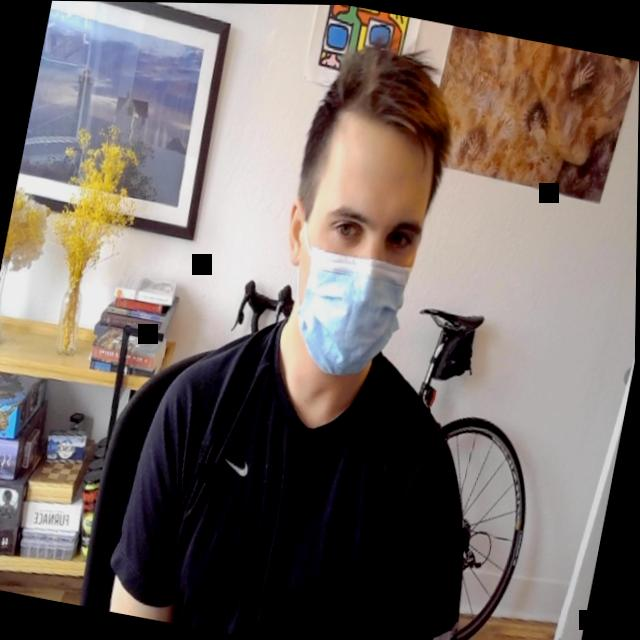Mask: (276, 108, 445, 389)
